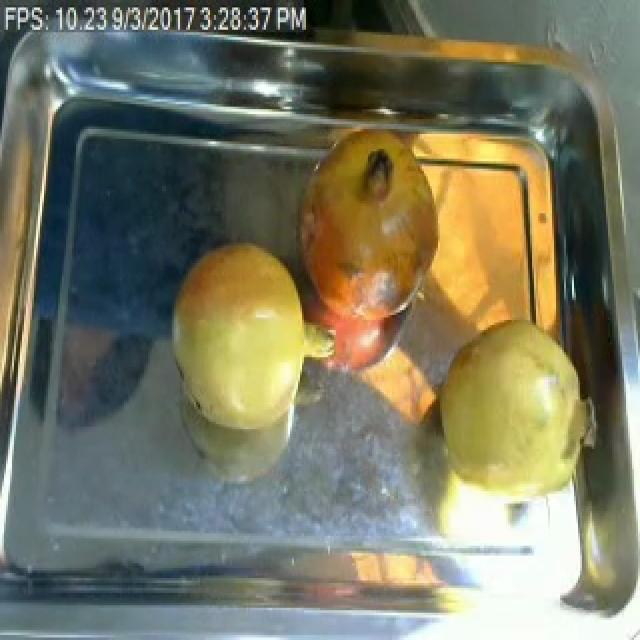fruit: (426, 298, 610, 533), (160, 228, 348, 454), (286, 121, 450, 335)
